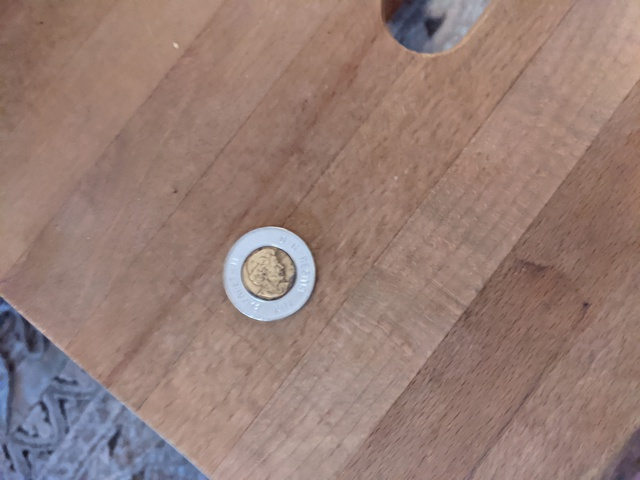twonie: (217, 223, 316, 323)
